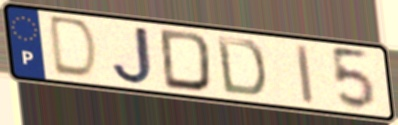5: (327, 44, 379, 115)
D: (158, 27, 215, 95), (49, 13, 102, 83), (214, 34, 269, 99)
I: (294, 42, 316, 108)
J: (109, 24, 156, 86)
